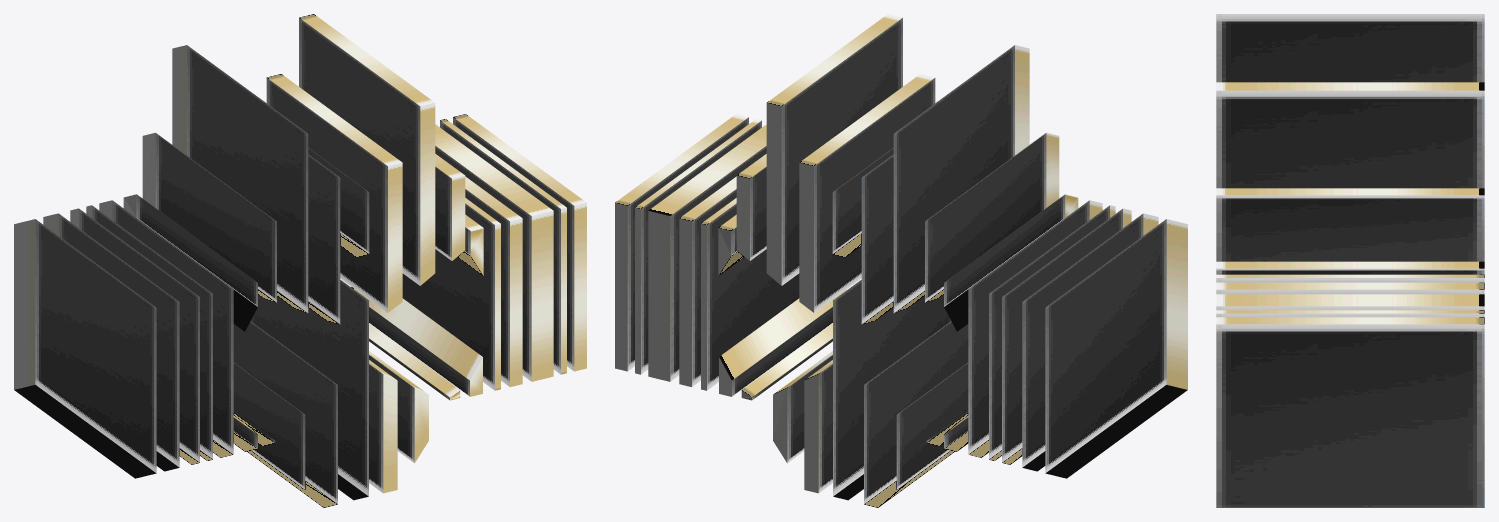
File: ps2_save-icons_kamenriderclimaxheroes.glb
3 renders of one model, left to right at view 1: azimuth 30°, elevation 25°; view 2: azimuth 150°, elevation 25°; view 3: azimuth 270°, elevation 25°, orthographic. The views are drawn at different scales.
Visible parts, largest first — view 1: icon.ico; view 2: icon.ico; view 3: icon.ico.
Boxes of the visible parts, x1,y1,x2,y2 form: icon.ico: [14, 14, 586, 507]; icon.ico: [615, 14, 1187, 507]; icon.ico: [1216, 14, 1484, 507].
Bounding box in the file's own units: 4.3 × 3.44 × 2.
Materials: 1 (1 with a texture image).
